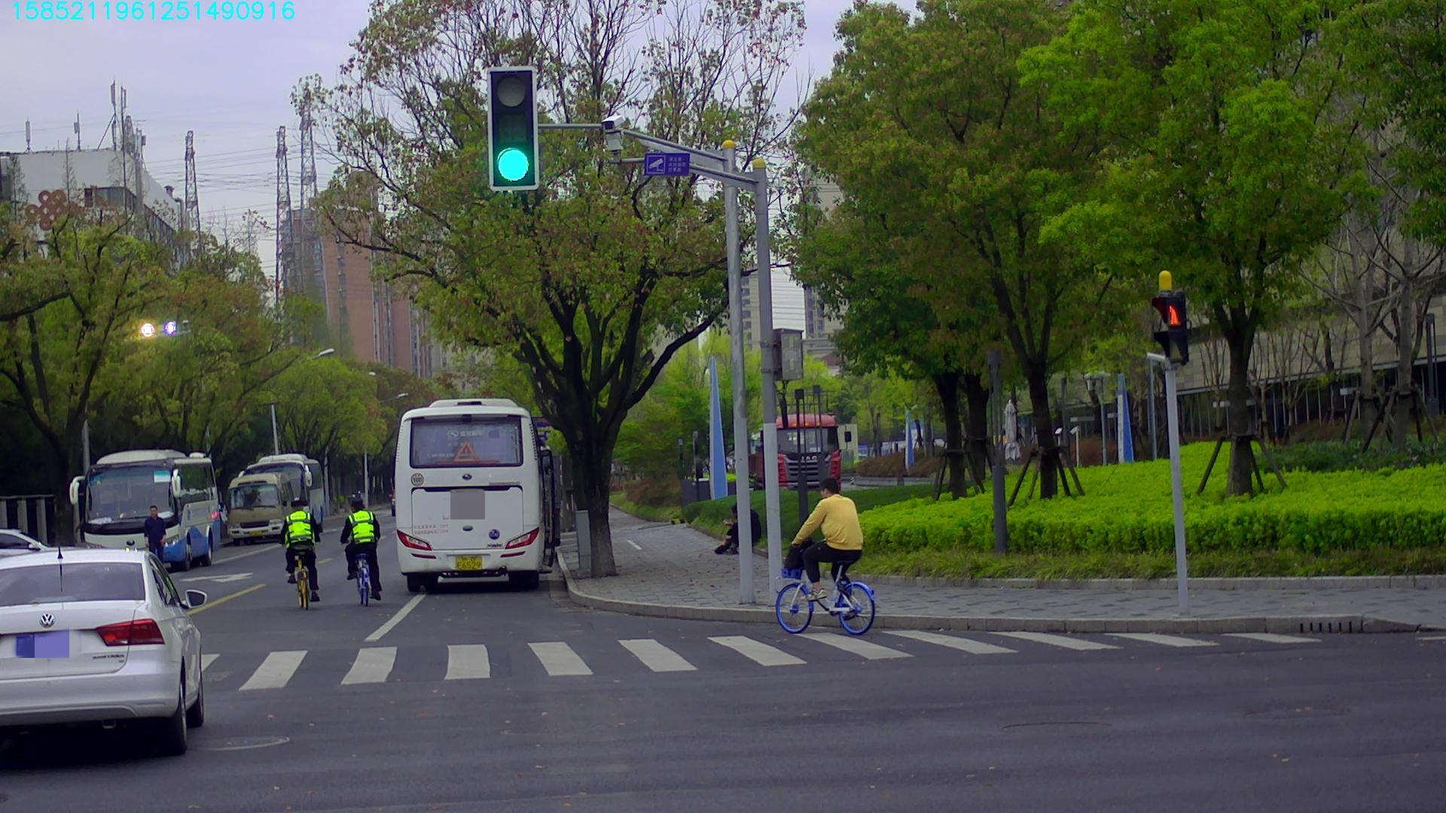green: (488, 69, 535, 186)
